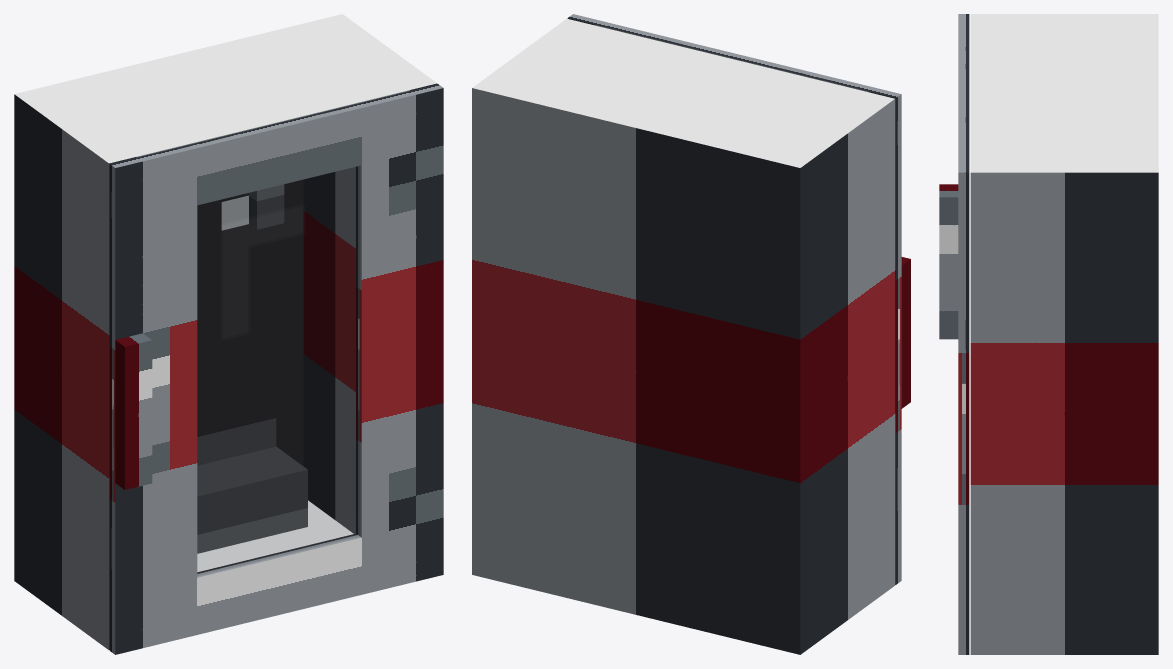
Rendered from extinguisher_cabinet_empty_closed.glb.
3 renders of one model, left to right at view 1: azimuth 30°, elevation 25°; view 2: azimuth 150°, elevation 25°; view 3: azimuth 270°, elevation 25°, orthographic.
Parts seen in each view (by area): view 1: Lined_Cabinet, Door_Frame, Window_Glass, Bottom_Cradle, Door_Handle, Mounting_Clip; view 2: Lined_Cabinet, Door_Frame, Door_Handle; view 3: Lined_Cabinet, Door_Frame, Door_Handle.
Part boxes in pixels (box(x1,y1,x2,y2)): Lined_Cabinet: box(14, 14, 437, 650); Door_Frame: box(110, 84, 443, 654); Window_Glass: box(198, 166, 359, 574); Bottom_Cradle: box(197, 446, 307, 553); Door_Handle: box(115, 333, 152, 489); Mounting_Clip: box(249, 184, 284, 229); Lined_Cabinet: box(472, 18, 895, 654); Door_Frame: box(567, 14, 901, 584); Door_Handle: box(901, 257, 910, 408); Lined_Cabinet: box(970, 14, 1158, 654); Door_Frame: box(958, 14, 969, 654); Door_Handle: box(939, 184, 958, 339).
Size of the model in its own units: 0.3375 by 0.4781 by 0.1969.
2 materials, 2 textured.
